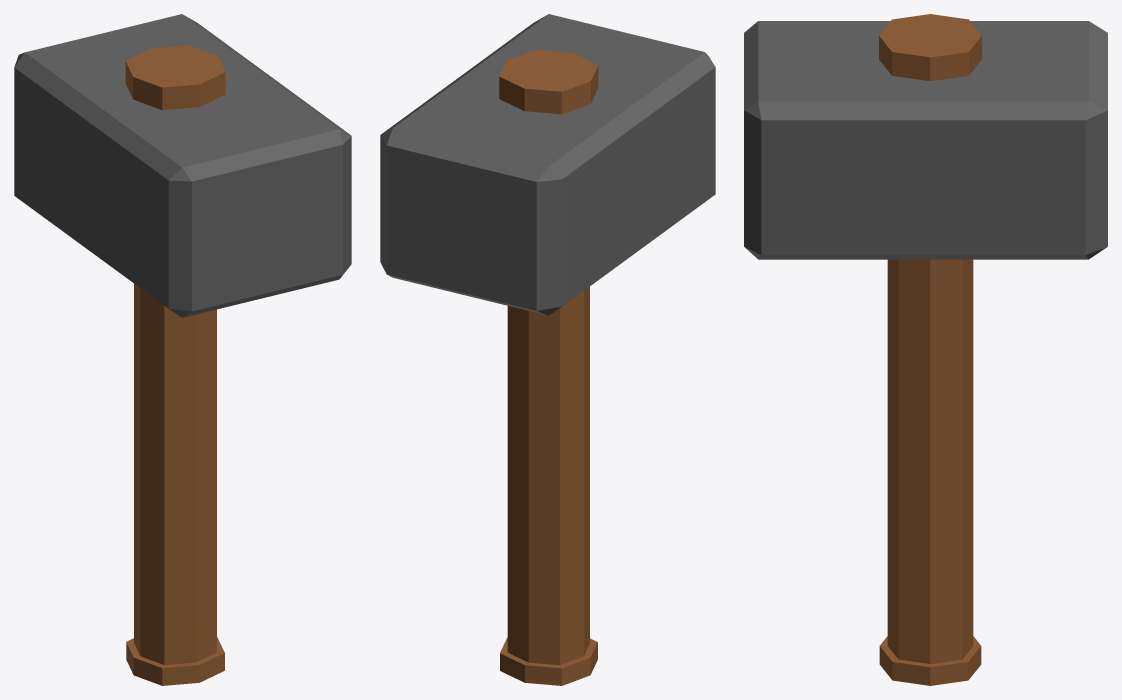
File: BlacksmithHammer.fbx
3 views of the same model, side by side, from view 1: azimuth 30°, elevation 25°; view 2: azimuth 150°, elevation 25°; view 3: azimuth 270°, elevation 25° (orthographic). The views are drawn at different scales.
Parts seen in each view (by area): view 1: Hammer; view 2: Hammer; view 3: Hammer.
Part boxes in pixels (bbox=[...]): Hammer: bbox=[14, 14, 351, 685]; Hammer: bbox=[380, 14, 715, 685]; Hammer: bbox=[744, 14, 1107, 685].
Size of the model in its own units: 14.57 by 45.47 by 23.85.
